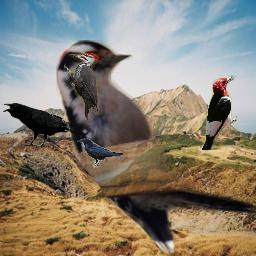Crow: (3, 103, 80, 148), (77, 138, 124, 168)
Woodpecker: (56, 40, 256, 253), (200, 75, 237, 150), (64, 53, 99, 122)
